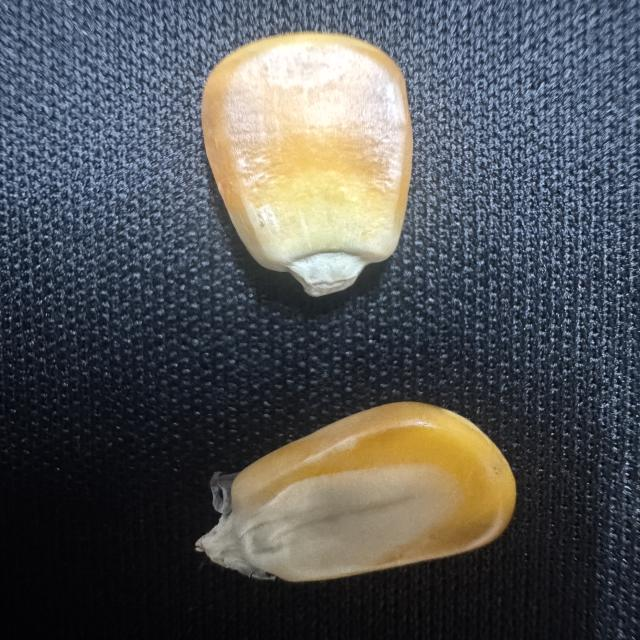Good-Seed: (189, 389, 536, 591), (191, 26, 436, 300)
